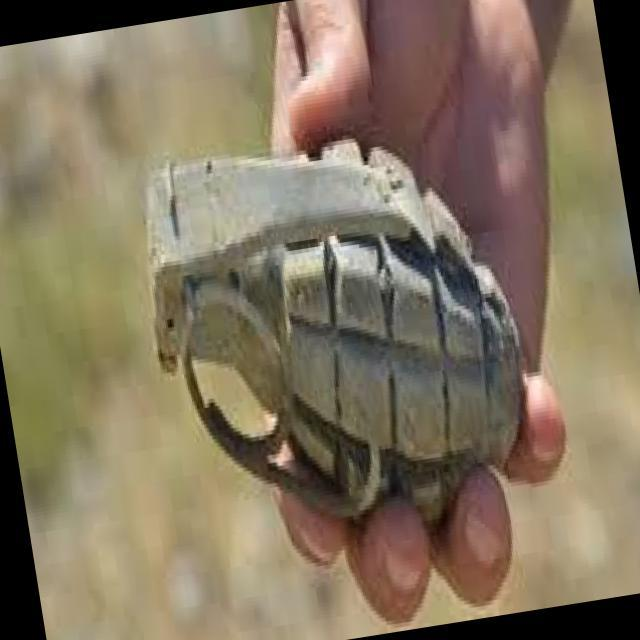grenade: (121, 104, 544, 556)
